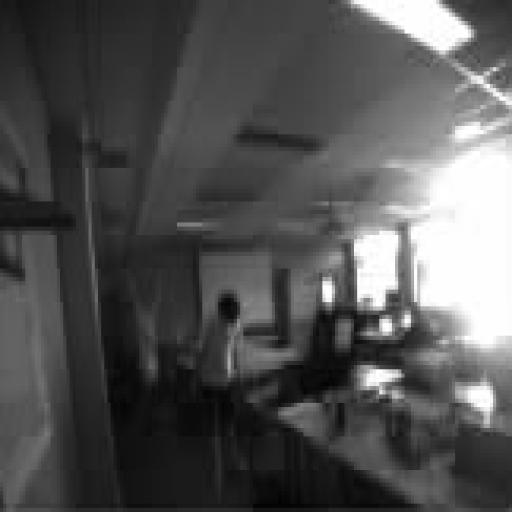human: (200, 290, 243, 491), (130, 282, 161, 432)
